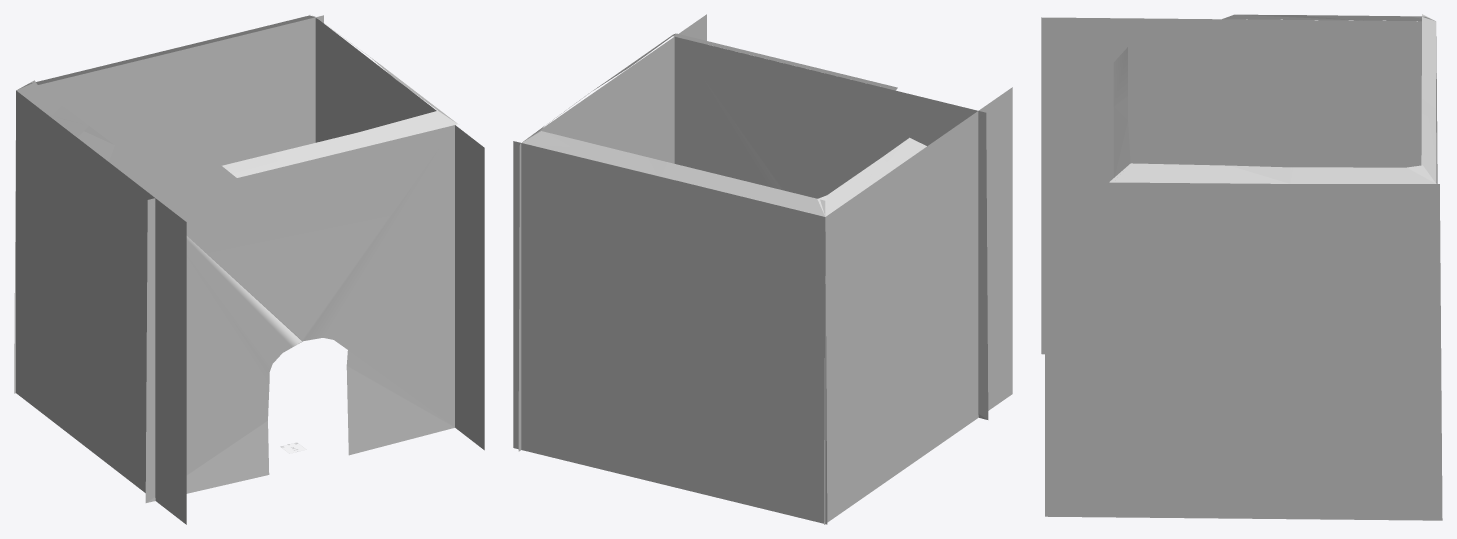
Rendered from project12.glb.
3 views of the same model, side by side, from view 1: azimuth 30°, elevation 25°; view 2: azimuth 150°, elevation 25°; view 3: azimuth 270°, elevation 25° (orthographic). The views are drawn at different scales.
Parts seen in each view (by area): view 1: 12Baross Kincső/Piti Mira; view 2: 12Baross Kincső/Piti Mira; view 3: 12Baross Kincső/Piti Mira.
Boxes of the visible parts, <box> form: 12Baross Kincső/Piti Mira: <box>14,15,484,524</box>; 12Baross Kincső/Piti Mira: <box>513,14,1012,524</box>; 12Baross Kincső/Piti Mira: <box>1041,14,1442,520</box>.
Size of the model in its own units: 9.34 by 8.66 by 9.03.
Materials: 3 (2 with a texture image).
